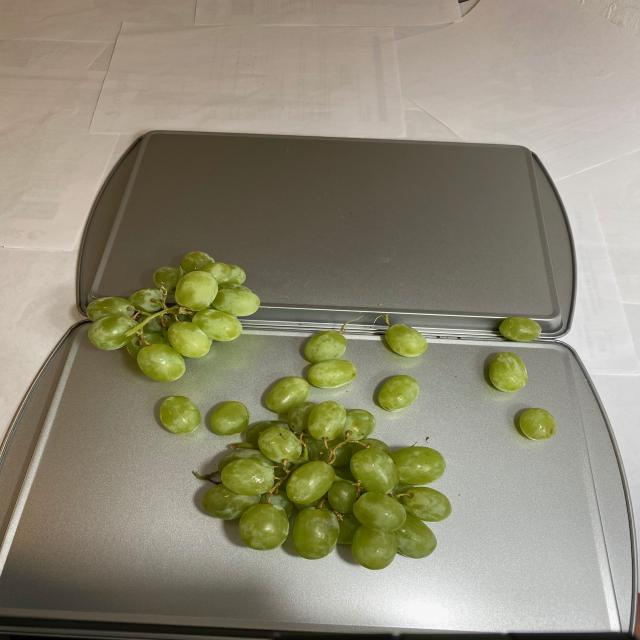grapes: (89, 253, 558, 570)
